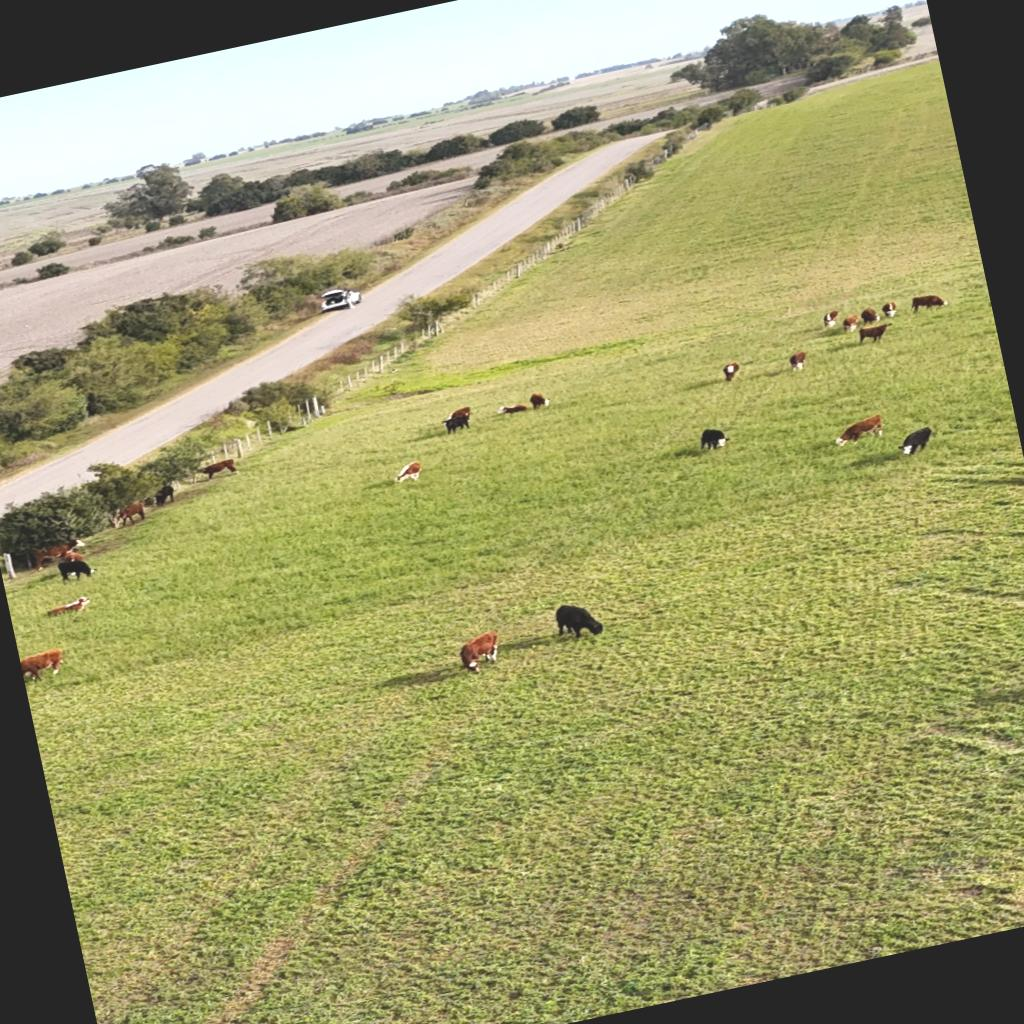cow: (552, 598, 606, 644), (454, 630, 506, 676), (30, 536, 90, 572), (830, 413, 889, 448), (19, 646, 70, 683), (894, 425, 940, 459), (42, 595, 96, 621), (56, 554, 98, 584), (110, 500, 150, 529), (857, 322, 896, 348), (198, 458, 240, 482), (908, 291, 949, 315), (392, 460, 425, 486), (698, 426, 730, 452), (443, 412, 474, 436), (152, 483, 179, 507), (496, 400, 530, 417), (788, 350, 811, 372), (445, 406, 474, 422), (720, 361, 742, 382), (528, 391, 550, 411), (841, 314, 862, 334), (860, 306, 880, 327), (821, 310, 842, 330), (67, 536, 90, 554), (880, 301, 900, 320), (940, 300, 950, 308)
